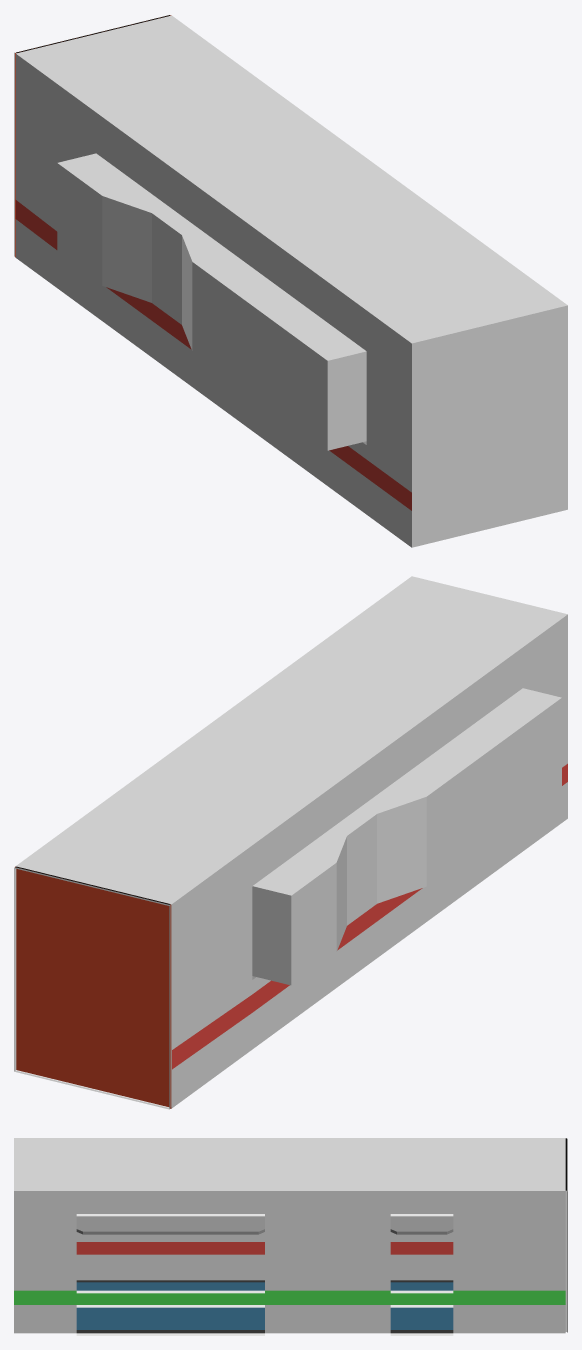
File: Area1Tutorial.fbx
3 renders of one model, top to bottom at view 1: azimuth 30°, elevation 25°; view 2: azimuth 150°, elevation 25°; view 3: azimuth 270°, elevation 25°, orthographic. The views are drawn at different scales.
Parts seen in each view (by area): view 1: TutorialEnv; view 2: TutorialEnv, Gate, GateTrack; view 3: TutorialEnv, Plane, GateTrack.
Part boxes in pixels (x1,y1,x2,y2): TutorialEnv: (15,15,567,547); TutorialEnv: (15,576,567,1108); Gate: (15,866,171,1108); GateTrack: (14,866,171,1109); TutorialEnv: (14,1138,565,1335); Plane: (77,1282,452,1329); GateTrack: (565,1138,567,1332).
Size of the model in its own units: 260 by 250 by 883.
